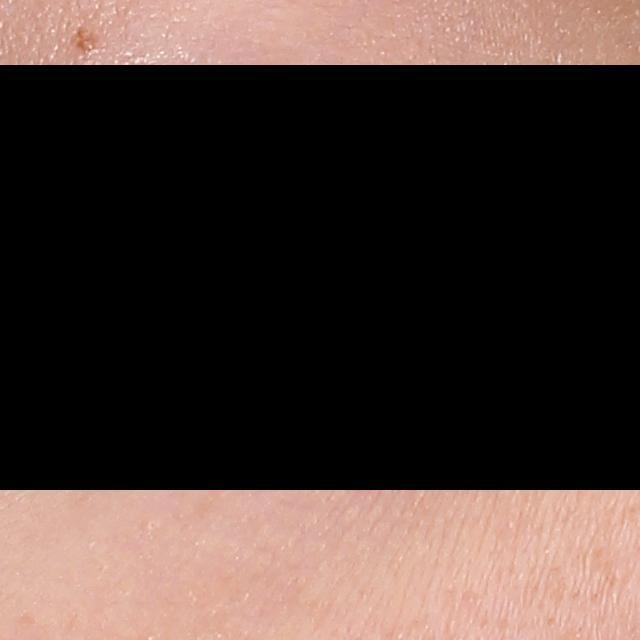nevus: (69, 27, 102, 57)
